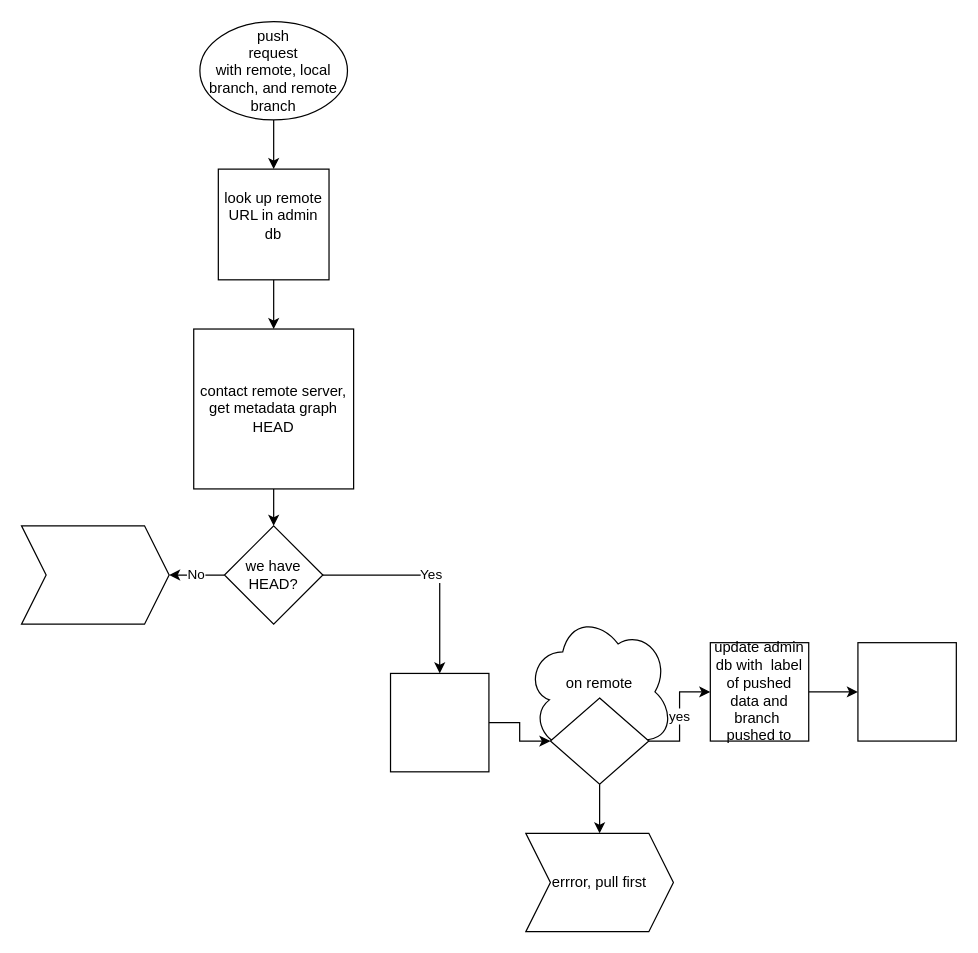
Some shapes in this 978 by 953 pixel diagram are drawn without their labels. Here are the shapes that lost their labels. From the top down, the centre of each, then its label:
At pixel 94 574: "error, pull first".
At pixel 906 691: "report success to user".
At pixel 439 722: "upload layers".
At pixel 599 740: "commit?".
